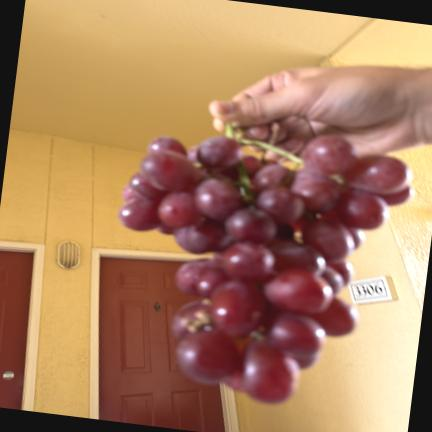grape_cluster: (119, 134, 411, 403)
